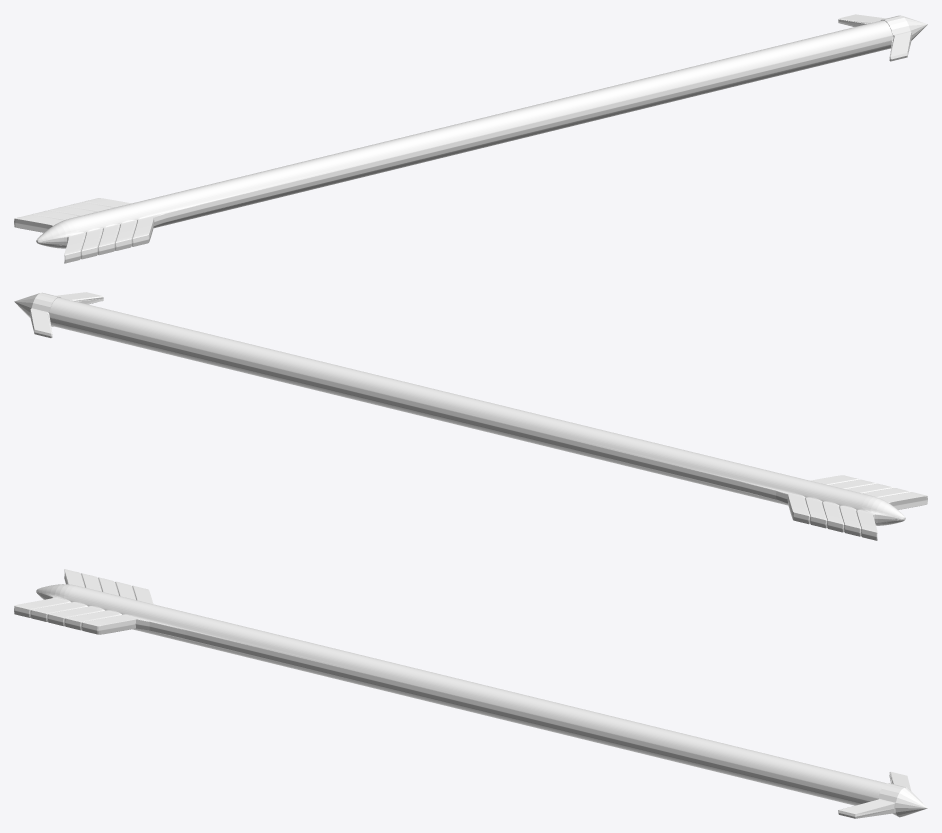
The model's file is arrow.obj.
3 renders of one model, top to bottom at view 1: azimuth 30°, elevation 25°; view 2: azimuth 150°, elevation 25°; view 3: azimuth 330°, elevation 25°, orthographic.
Visible parts, largest first — view 1: Cylinder01, Object01; view 2: Cylinder01, Object01; view 3: Cylinder01, Object01.
Part boxes in pixels (<box>): Cylinder01: <box>14,20,892,263</box>; Object01: <box>838,14,927,61</box>; Cylinder01: <box>49,297,927,540</box>; Object01: <box>14,292,103,337</box>; Cylinder01: <box>14,569,886,805</box>; Object01: <box>838,772,927,818</box>.
Size of the model in its own units: 145 by 4.27 by 14.85.
Materials: 1 (1 with a texture image).
